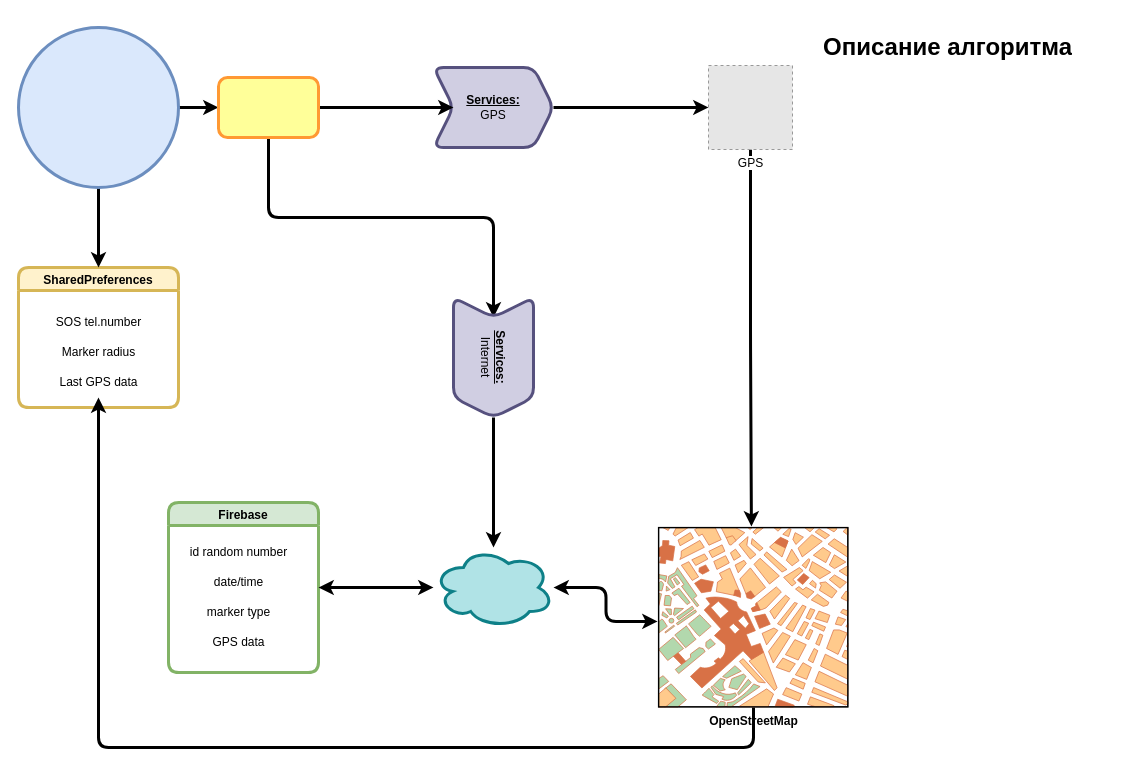
The diagram is 1136 pixels wide and 774 high, and some of its shapes have lost their labels. Grey dashed boxes stand in for pictures. Here are the shapes that lost their labels. From the top down, the centre of each, then its label:
the point at 98,107: APPLICATION
the point at 268,107: Permission
the point at 493,587: Internet
